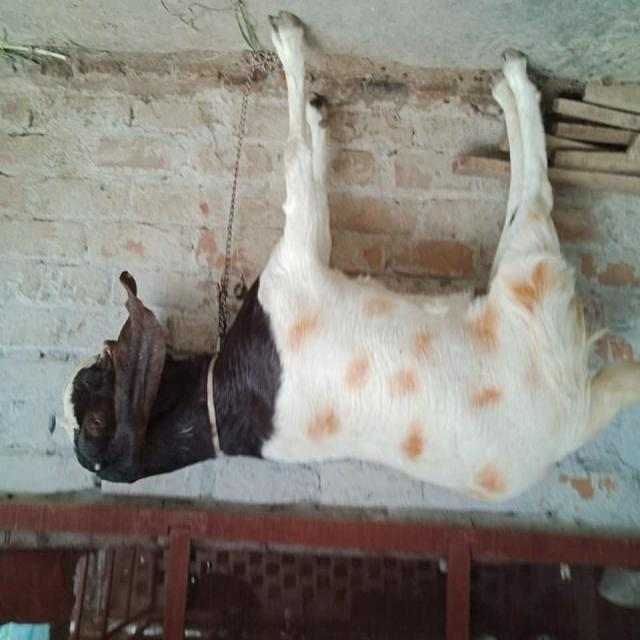Goat: (67, 11, 640, 505)
